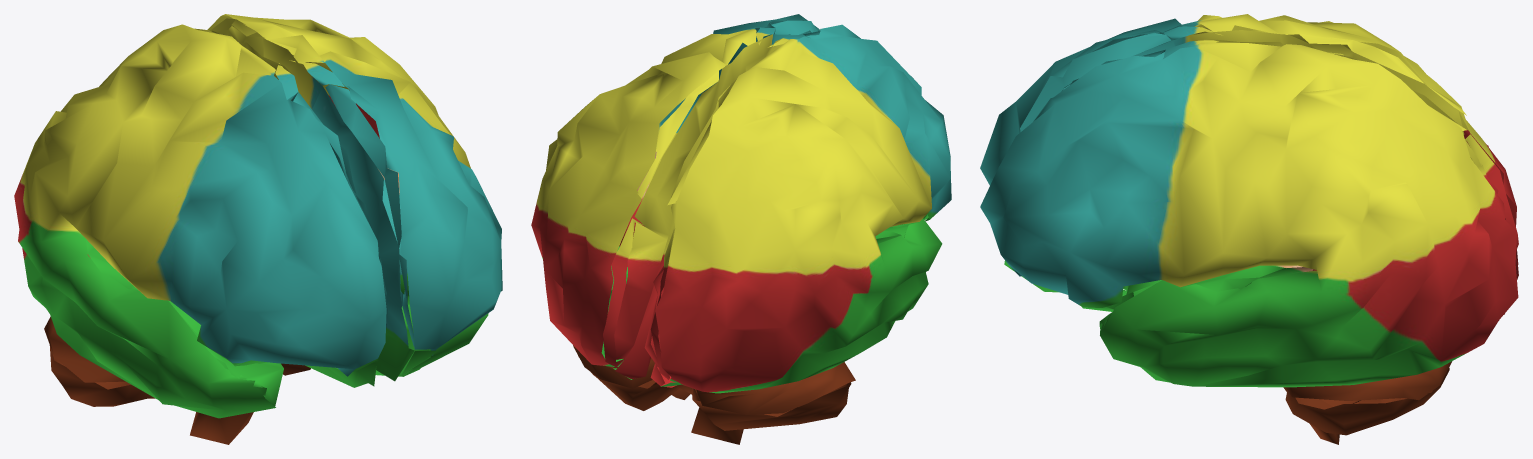
File: brain_rp.glb
3 views of the same model, side by side, from view 1: azimuth 30°, elevation 25°; view 2: azimuth 150°, elevation 25°; view 3: azimuth 270°, elevation 25° (orthographic). The views are drawn at different scales.
Visible parts, largest first — view 1: Brain_Part_06; view 2: Brain_Part_06; view 3: Brain_Part_06.
Boxes of the visible parts, x1,y1,x2,y2 form: Brain_Part_06: (14,14,502,444); Brain_Part_06: (531,14,951,444); Brain_Part_06: (980,14,1518,444).
Bounding box in the file's own units: 1.08 × 1.12 × 1.33.
1 material, 1 textured.
